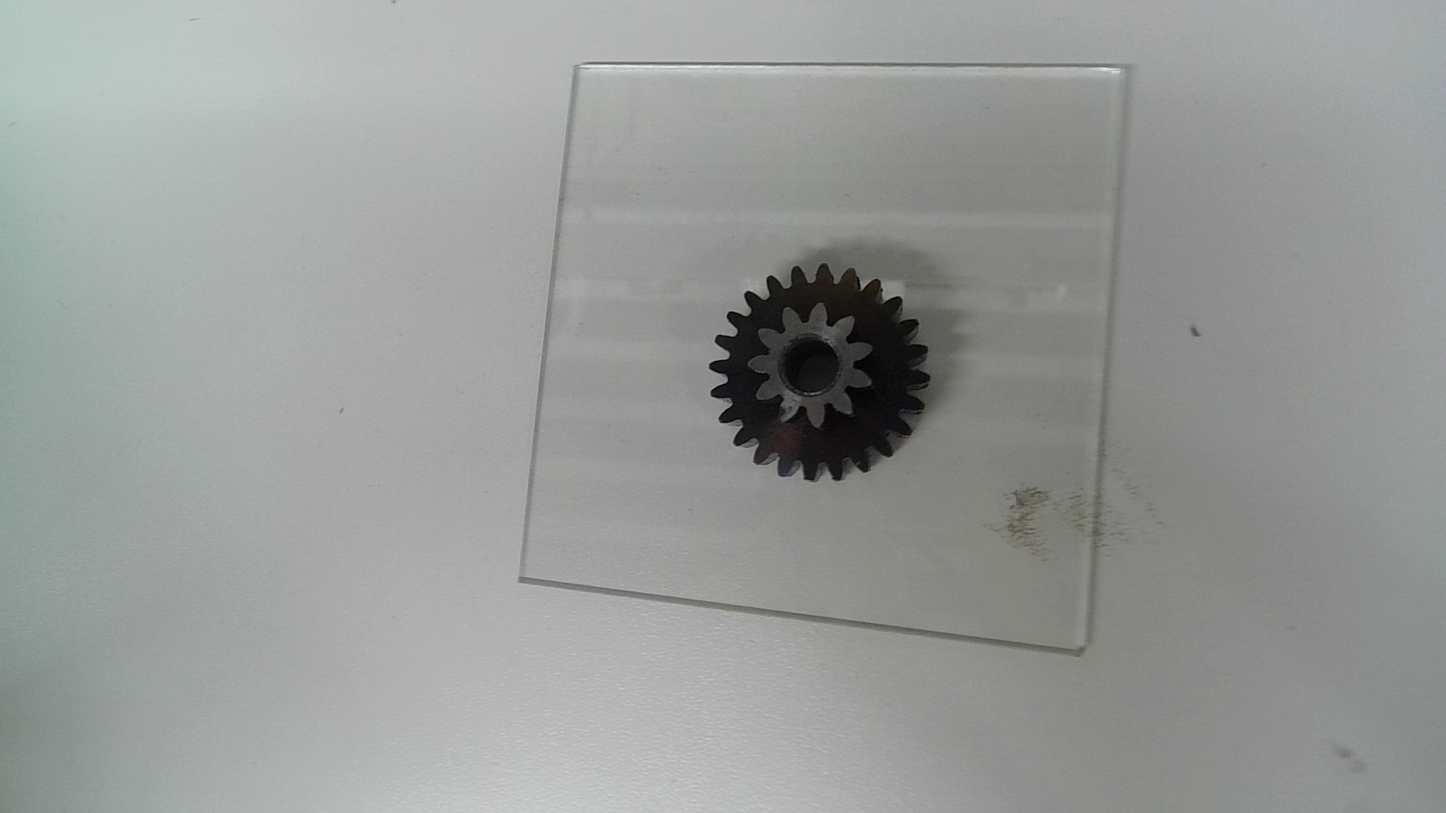gear: (703, 260, 934, 484)
